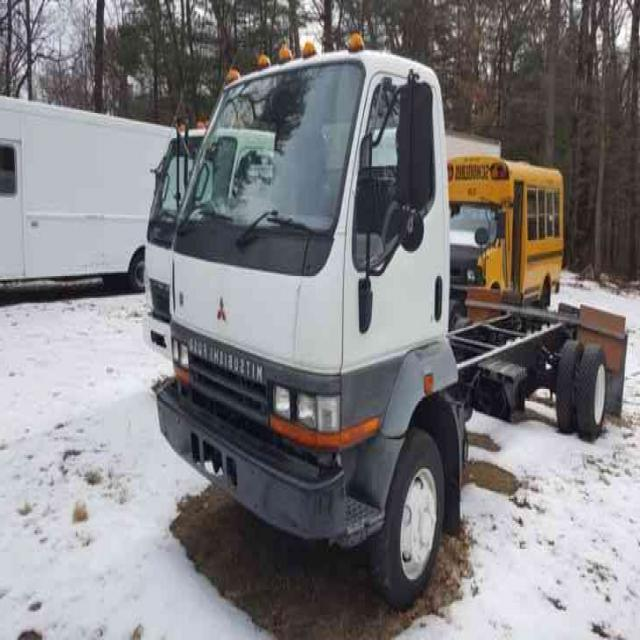truck: (155, 49, 629, 608)
